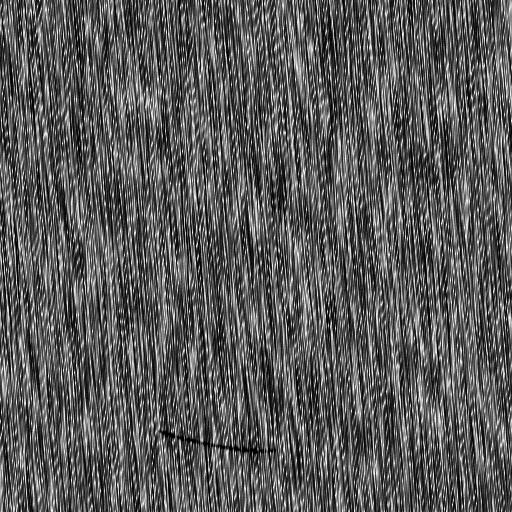scratch: (154, 423, 280, 461)
